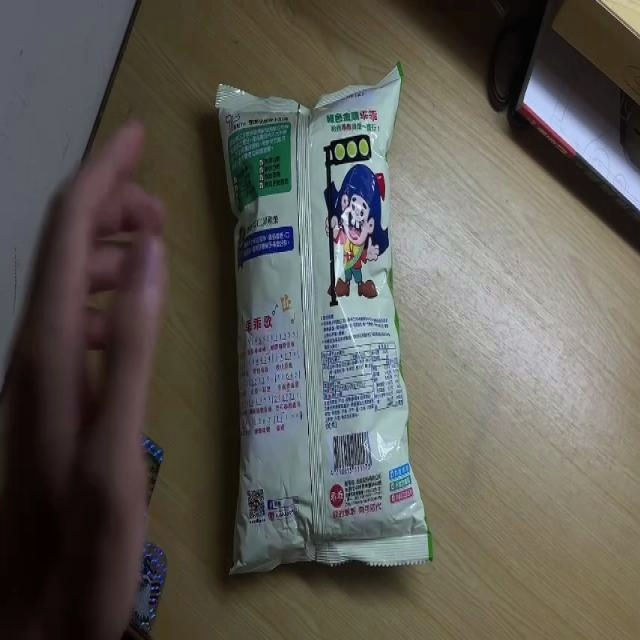Good-Luck: (214, 58, 436, 584)
